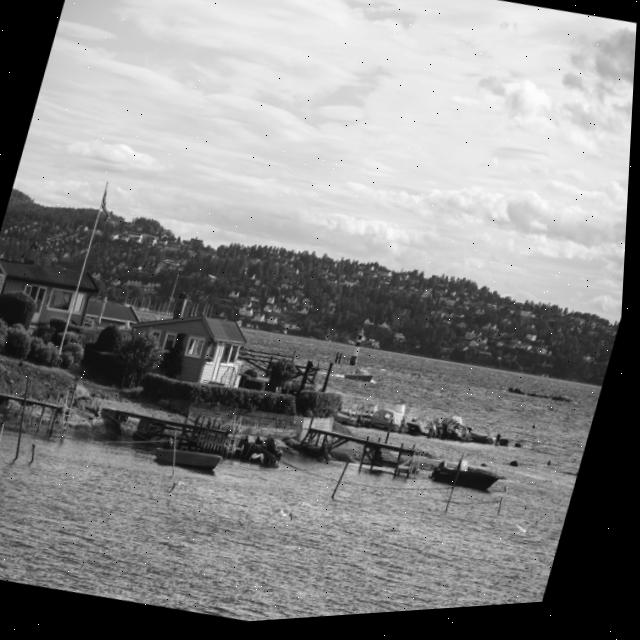building: (0, 240, 157, 352), (115, 293, 254, 403)
